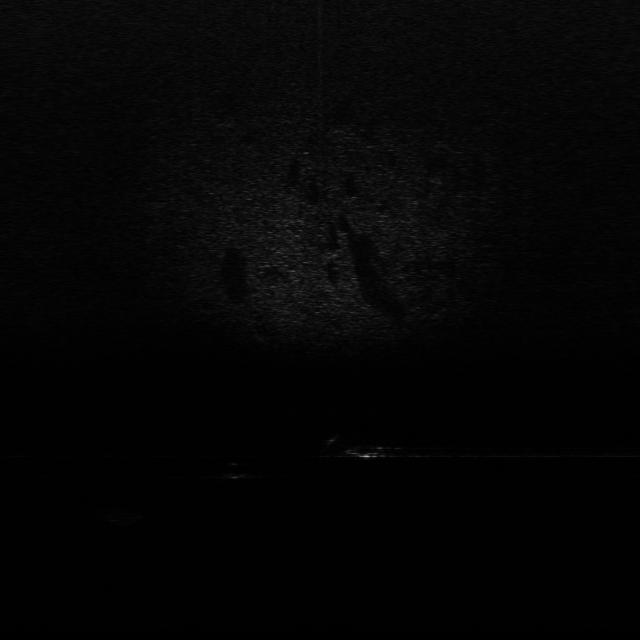ball: (222, 462, 249, 481)
circle cage: (102, 504, 143, 526)
human body: (323, 433, 419, 461)
